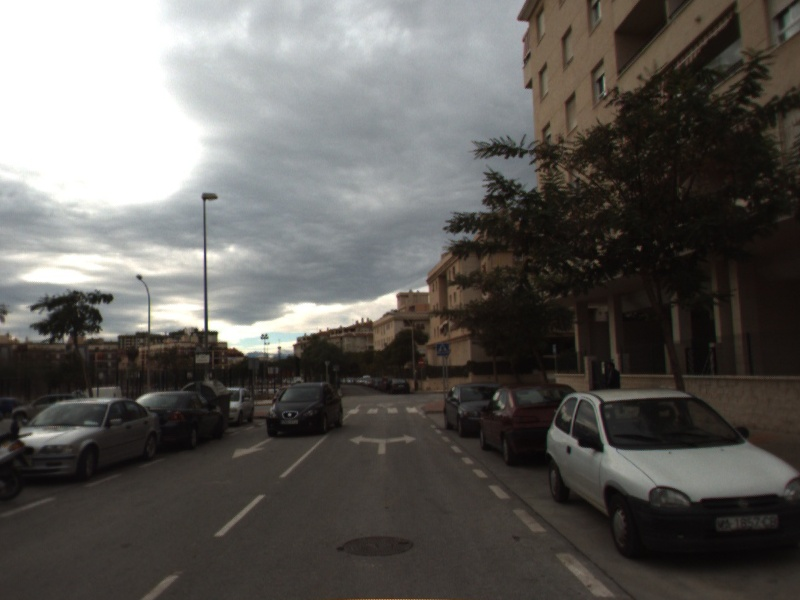LEFT_RIGHT: (347, 431, 418, 457)
